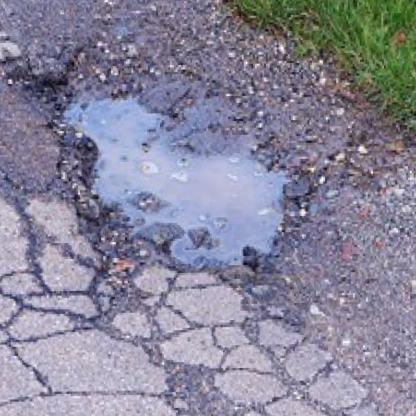pothole: (31, 58, 295, 282)
